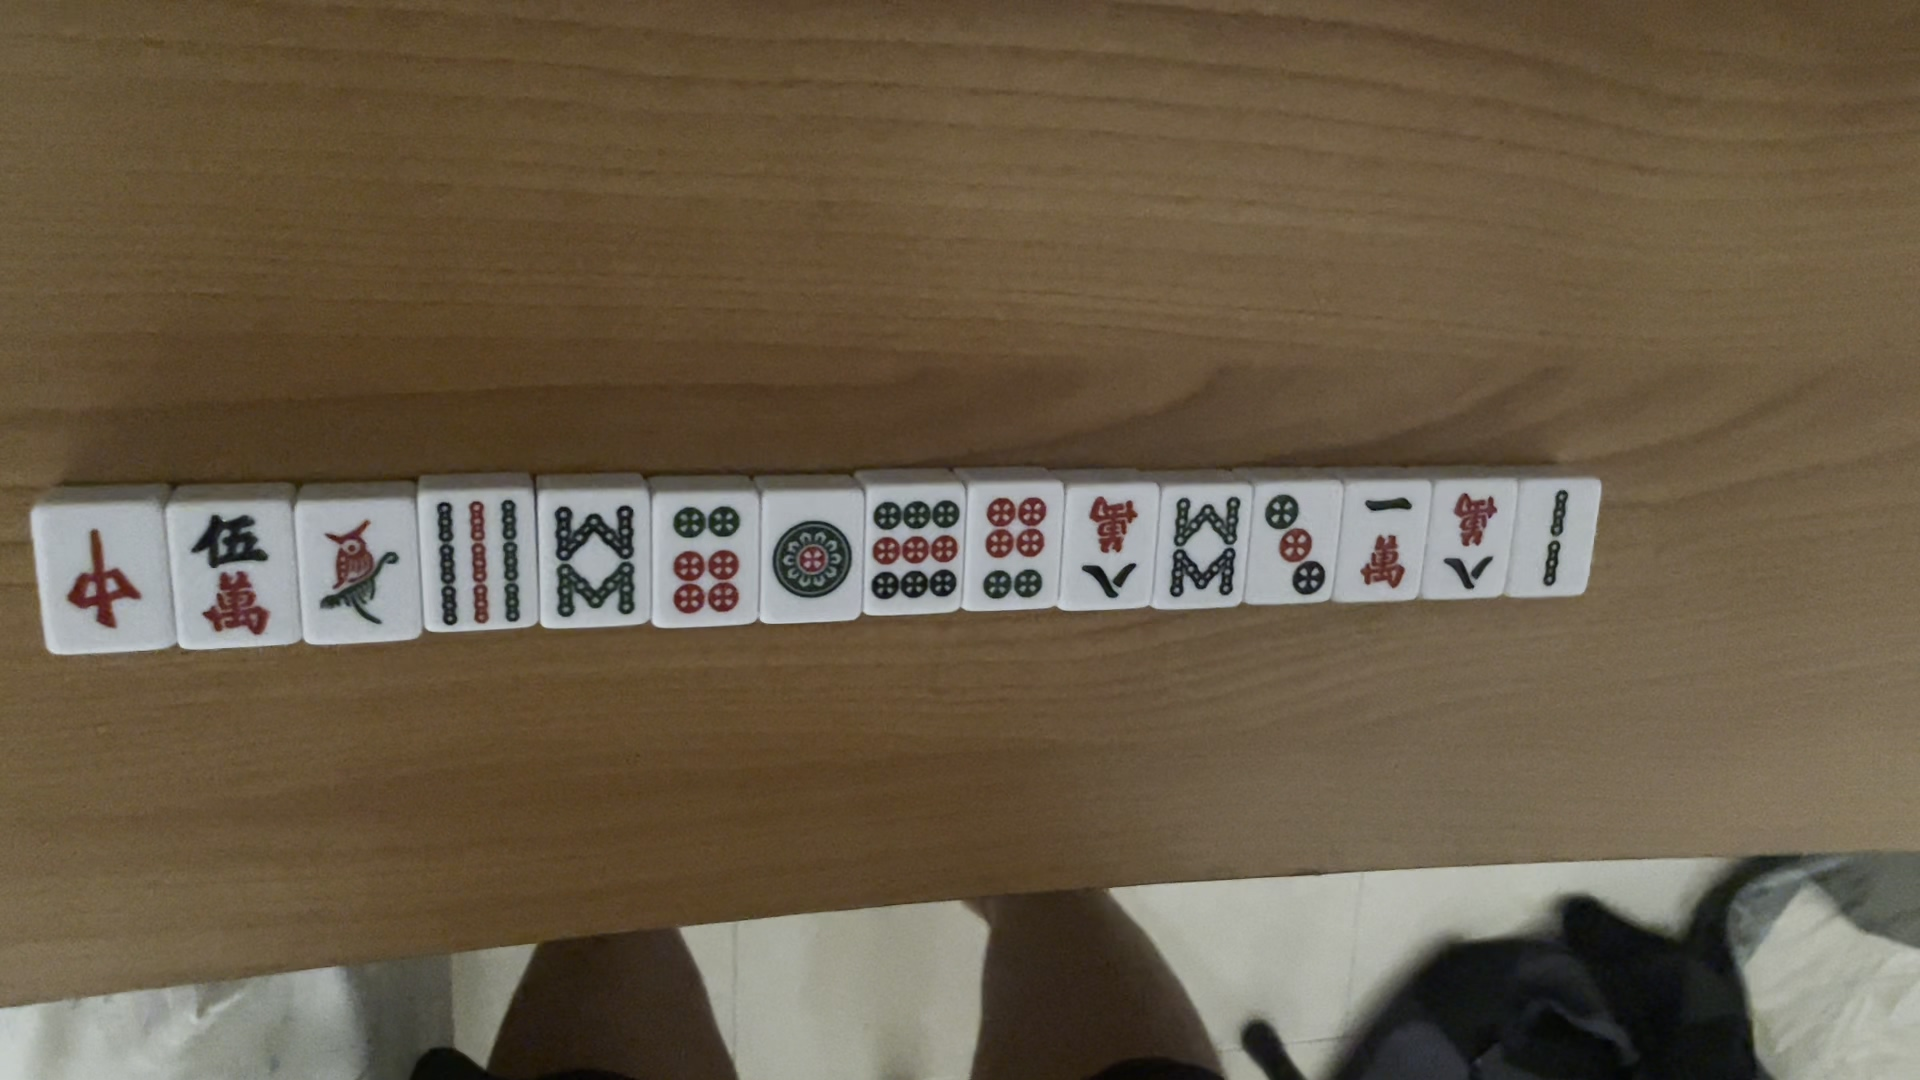b-1: (318, 515, 413, 638)
b-2: (1535, 486, 1580, 591)
b-8: (545, 493, 641, 621), (1161, 493, 1244, 602)
b-9: (431, 498, 529, 628)
c-1: (1348, 489, 1429, 593)
c-5: (180, 512, 284, 647)
c-8: (1070, 496, 1147, 606), (1438, 486, 1496, 591)
d-1: (980, 495, 1051, 599), (774, 518, 854, 602)
d-3: (1262, 496, 1328, 596)
d-6: (654, 496, 745, 621)
d-9: (868, 498, 957, 604)
honors-red: (47, 515, 155, 640)
